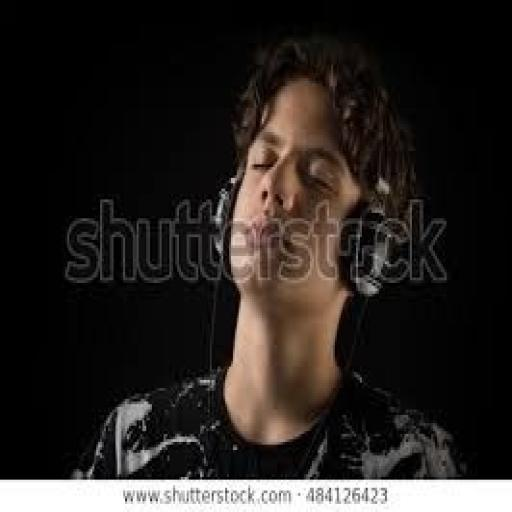listening_to_music: (75, 30, 468, 480)
